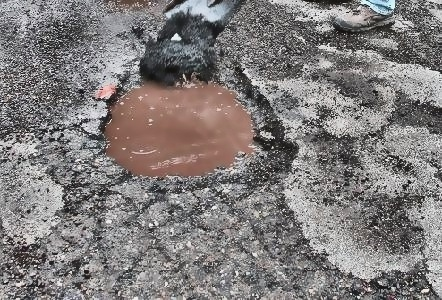pothole: (94, 50, 299, 200)
